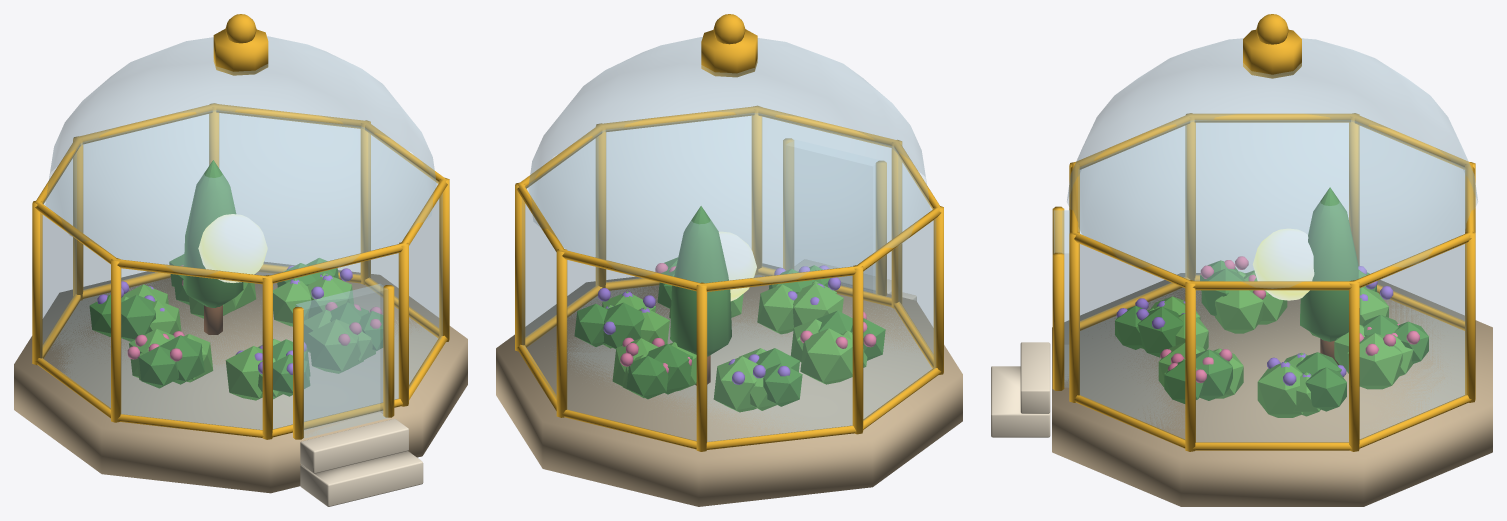
Rendered from sera_4.glb.
3 views of the same model, side by side, from view 1: azimuth 30°, elevation 25°; view 2: azimuth 150°, elevation 25°; view 3: azimuth 270°, elevation 25° (orthographic). The views are drawn at different scales.
Parts seen in each view (by area): view 1: Sera.001; view 2: Sera.001; view 3: Sera.001.
Part boxes in pixels (x1,y1,x2,y2): Sera.001: (14, 14, 467, 506); Sera.001: (496, 14, 962, 506); Sera.001: (991, 14, 1492, 506).
Size of the model in its own units: 2.68 by 2.67 by 3.05.
